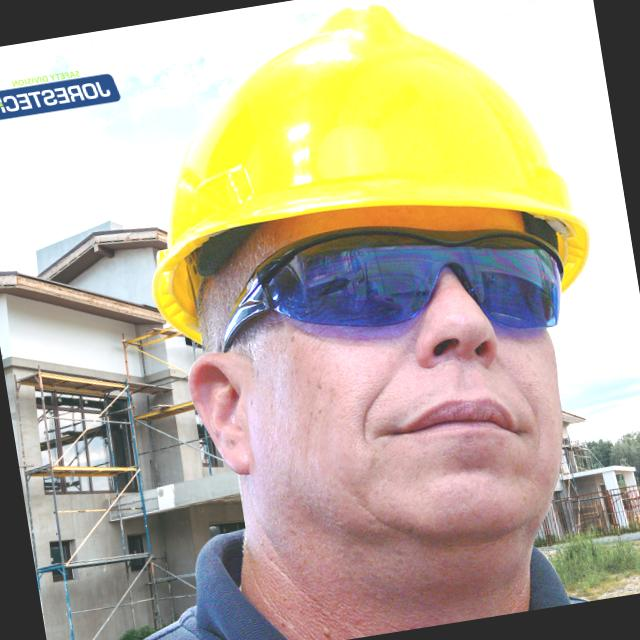goggles: (200, 190, 576, 384)
helmet: (113, 0, 602, 353)
